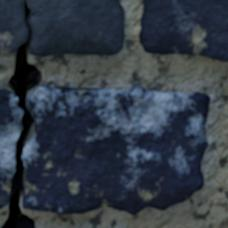brick: (139, 0, 227, 60)
broken_brick: (23, 85, 210, 215), (0, 0, 124, 57), (0, 88, 21, 210)
crack: (0, 1, 42, 227)
